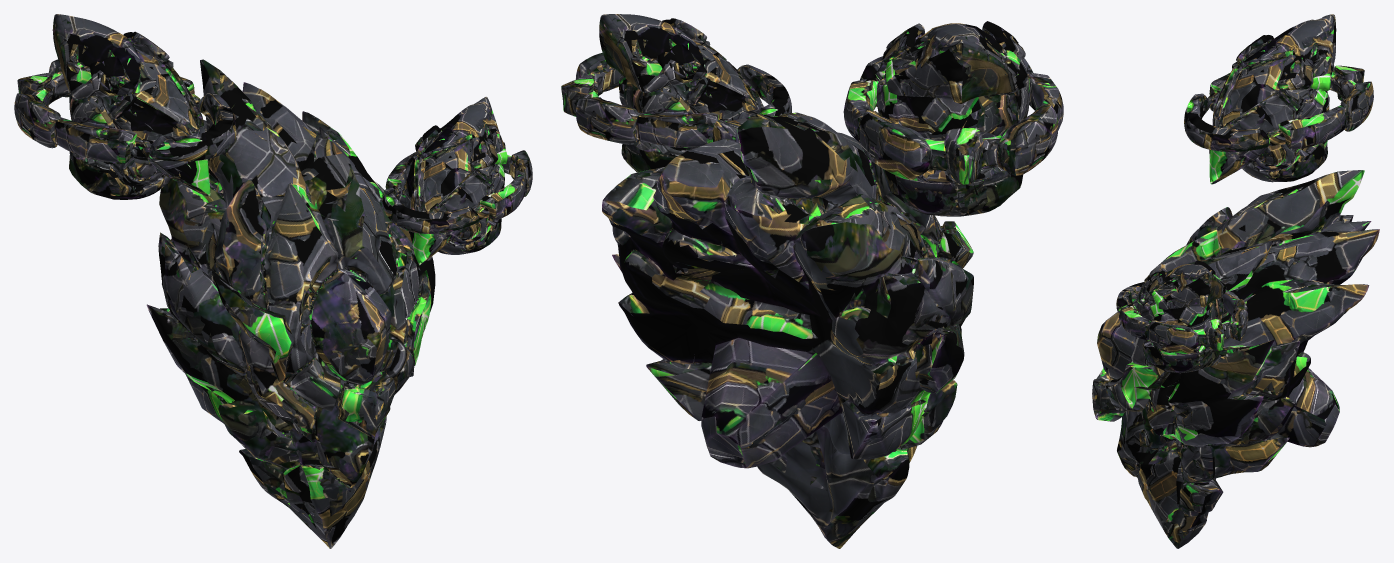
File: gloomchanter_kitbash_shade_wisp_v01_prepared.fbx
3 views of the same model, side by side, from view 1: azimuth 30°, elevation 25°; view 2: azimuth 150°, elevation 25°; view 3: azimuth 270°, elevation 25° (orthographic). The views are drawn at different scales.
Parts seen in each view (by area): view 1: LTW_GloomChanter_Kitbash; view 2: LTW_GloomChanter_Kitbash; view 3: LTW_GloomChanter_Kitbash.
Part boxes in pixels (x1,y1,x2,y2): LTW_GloomChanter_Kitbash: (14, 14, 532, 548); LTW_GloomChanter_Kitbash: (561, 14, 1063, 548); LTW_GloomChanter_Kitbash: (1092, 14, 1379, 548).
Size of the model in its own units: 81.88 by 92.44 by 52.99.
